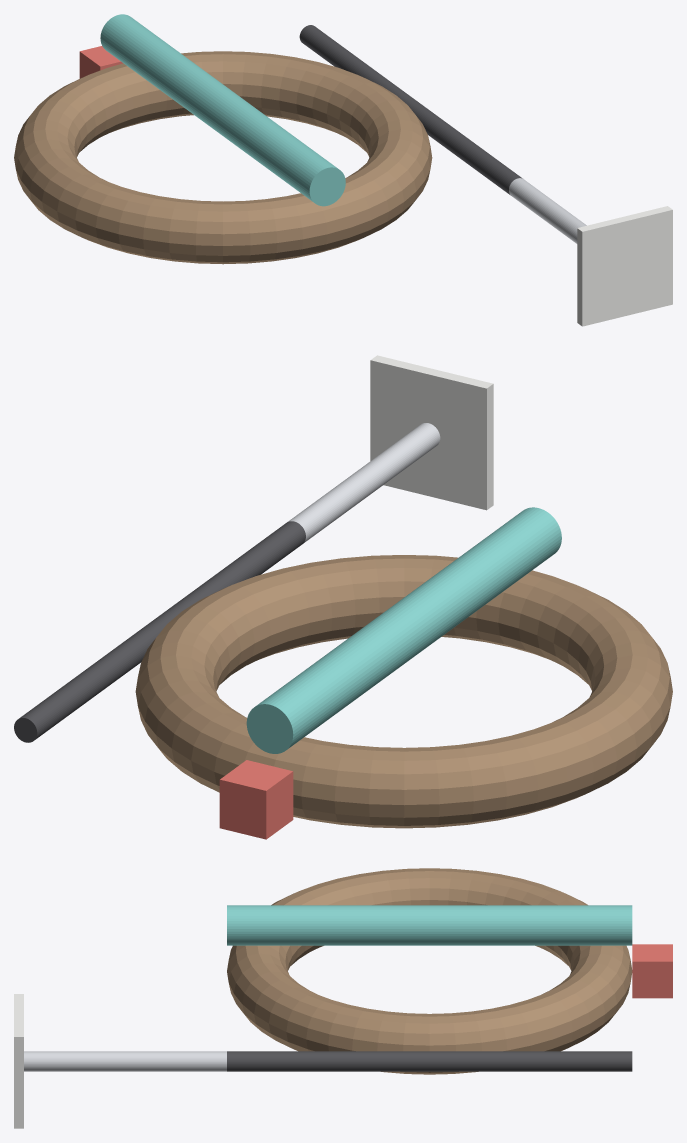
The model's file is crown.gltf.
3 views of the same model, one above another, from view 1: azimuth 30°, elevation 25°; view 2: azimuth 150°, elevation 25°; view 3: azimuth 270°, elevation 25° (orthographic). The views are drawn at different scales.
Parts seen in each view (by area): view 1: band, light pipe, panel, glasses arm, panel arm, emitter; view 2: band, light pipe, panel, glasses arm, emitter, panel arm; view 3: band, light pipe, glasses arm, panel arm, emitter, panel.
Boxes of the visible parts, bbox=[...] form: band: bbox=[14, 51, 432, 264]; light pipe: bbox=[100, 14, 345, 206]; panel: bbox=[577, 206, 672, 326]; glasses arm: bbox=[299, 25, 522, 195]; panel arm: bbox=[509, 178, 586, 243]; emitter: bbox=[79, 46, 122, 78]; band: bbox=[135, 555, 672, 828]; light pipe: bbox=[246, 507, 561, 753]; panel: bbox=[370, 355, 493, 510]; glasses arm: bbox=[14, 521, 305, 742]; emitter: bbox=[219, 760, 293, 839]; panel arm: bbox=[288, 423, 440, 543]; band: bbox=[227, 868, 632, 1074]; light pipe: bbox=[227, 905, 632, 945]; glasses arm: bbox=[227, 1051, 632, 1071]; panel arm: bbox=[24, 1051, 226, 1071]; emitter: bbox=[632, 944, 672, 998]; panel: bbox=[14, 994, 23, 1128].
Size of the model in its own units: 1.15 by 0.3 by 1.62.
